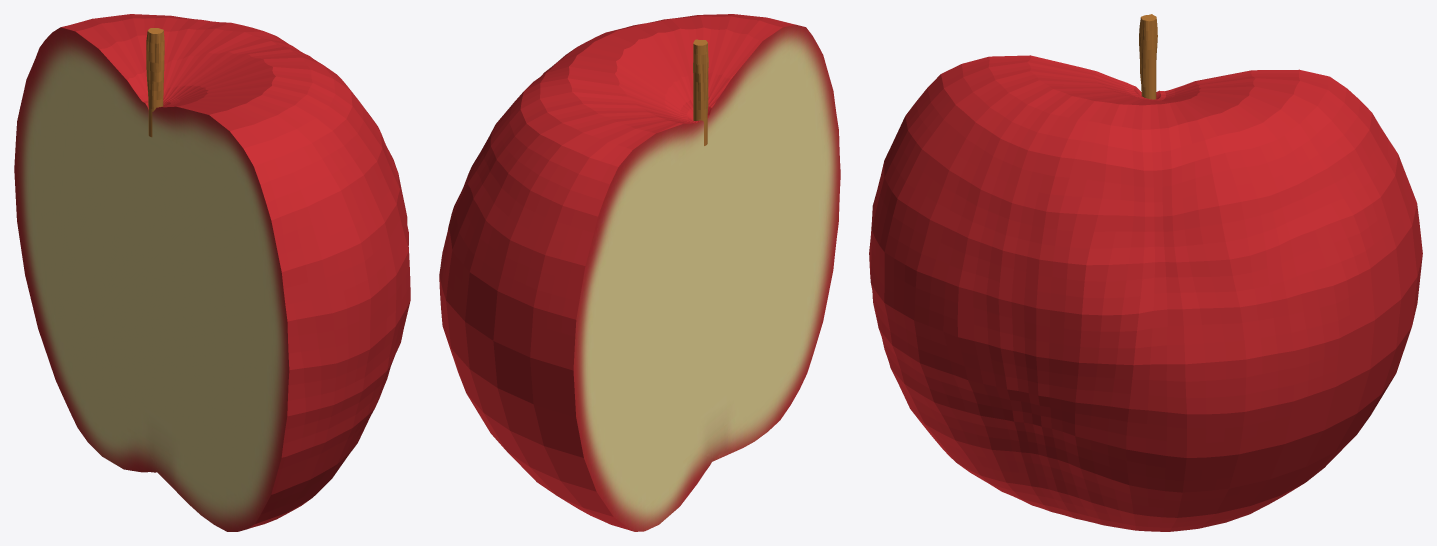
The model's file is applePiece1.fbx.
3 views of the same model, side by side, from view 1: azimuth 30°, elevation 25°; view 2: azimuth 150°, elevation 25°; view 3: azimuth 270°, elevation 25° (orthographic). The views are drawn at different scales.
Visible parts, largest first — view 1: applePiece1, applePart1; view 2: applePiece1, applePart1; view 3: applePiece1, applePart1.
Part boxes in pixels (x1,y1,x2,y2): applePiece1: (14, 14, 410, 531); applePart1: (146, 28, 164, 137); applePiece1: (439, 14, 840, 531); applePart1: (693, 39, 708, 145); applePiece1: (869, 55, 1422, 531); applePart1: (1139, 14, 1157, 99).
Size of the model in its own units: 182 by 340 by 368.
